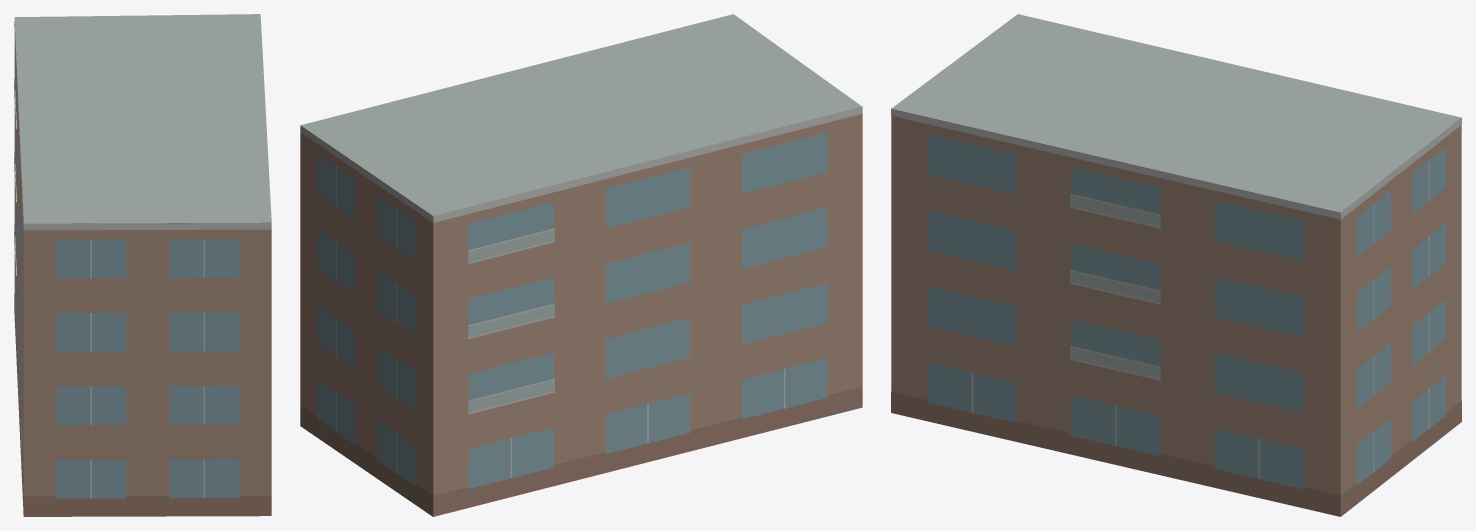
Rendered from survey-upis-32682647.glb.
3 views of the same model, side by side, from view 1: azimuth 30°, elevation 25°; view 2: azimuth 150°, elevation 25°; view 3: azimuth 270°, elevation 25° (orthographic). The views are drawn at different scales.
Visible parts, largest first — view 1: survey-upis-32682647.tmp; view 2: survey-upis-32682647.tmp; view 3: survey-upis-32682647.tmp.
Boxes of the visible parts, x1,y1,x2,y2 form: survey-upis-32682647.tmp: (14, 14, 271, 516); survey-upis-32682647.tmp: (300, 14, 862, 516); survey-upis-32682647.tmp: (891, 14, 1461, 516).
Size of the model in its own units: 14.71 by 10.5 by 17.86.
